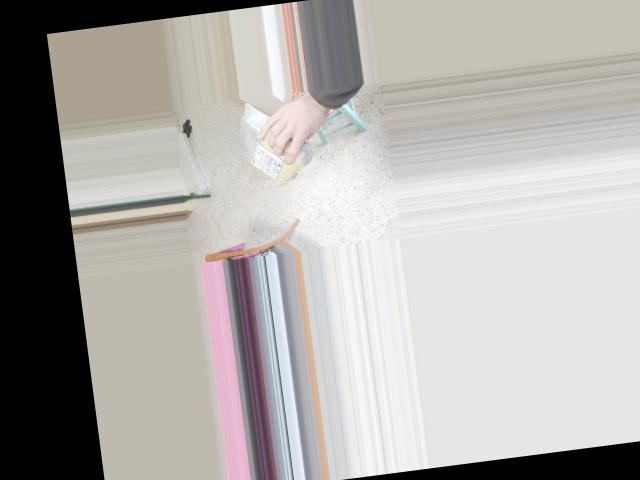cheese: (238, 98, 310, 188)
